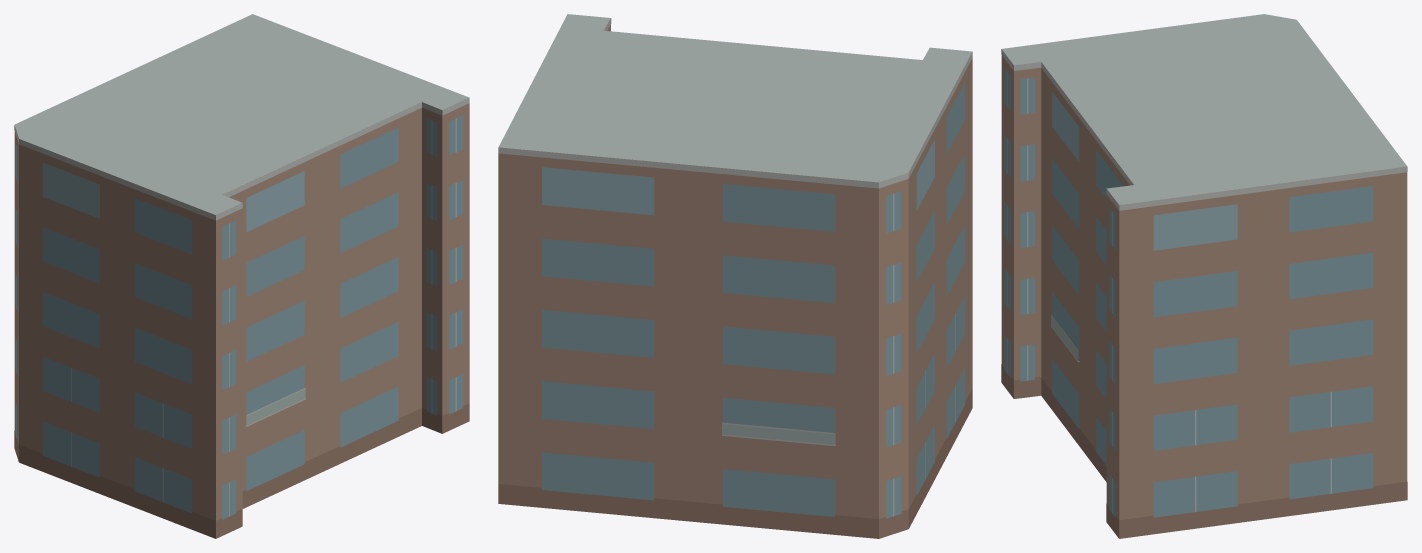
File: survey-upis-33012029.glb
3 renders of one model, left to right at view 1: azimuth 30°, elevation 25°; view 2: azimuth 150°, elevation 25°; view 3: azimuth 270°, elevation 25°, orthographic. The views are drawn at different scales.
Parts seen in each view (by area): view 1: survey-upis-33012029.tmp; view 2: survey-upis-33012029.tmp; view 3: survey-upis-33012029.tmp.
Part boxes in pixels (x1=…): survey-upis-33012029.tmp: x1=14, y1=14, x2=469, y2=538; survey-upis-33012029.tmp: x1=498, y1=14, x2=972, y2=538; survey-upis-33012029.tmp: x1=1001, y1=14, x2=1407, y2=538.
Size of the model in its own units: 17.71 by 14.4 by 15.89.
